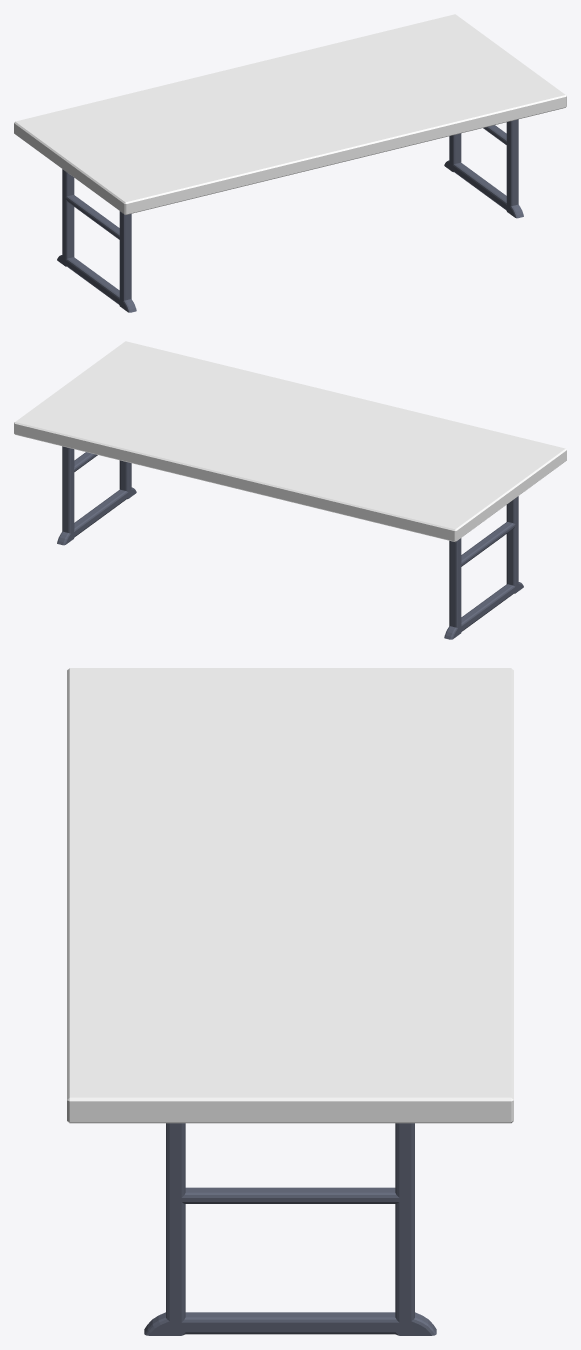
The model's file is table.glb.
The picture shows the model from 3 angles, top to bottom: view 1: azimuth 30°, elevation 25°; view 2: azimuth 150°, elevation 25°; view 3: azimuth 270°, elevation 25°; orthographic projection. The views are drawn at different scales.
Visible parts, largest first — view 1: tableTop; view 2: tableTop; view 3: tableTop.
Part boxes in pixels (bbox=[...]): tableTop: bbox=[14, 14, 566, 312]; tableTop: bbox=[14, 341, 566, 639]; tableTop: bbox=[67, 668, 513, 1335].
Bounding box in the file's own units: 1.44 × 0.4039 × 0.63.
Materials: 1 (1 with a texture image).
